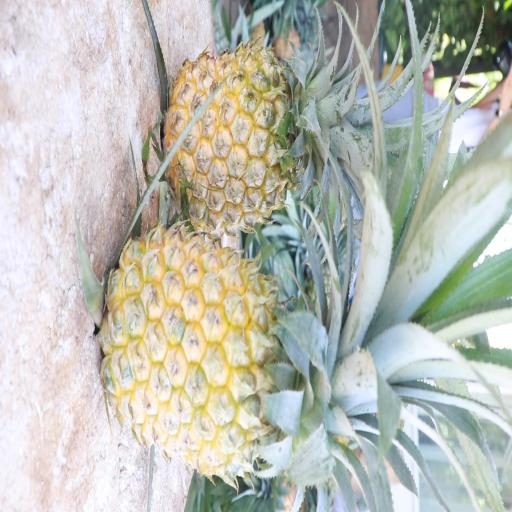Pineapple - v8 v1: (96, 216, 395, 490), (158, 41, 366, 239), (216, 154, 226, 158), (223, 112, 232, 112)
